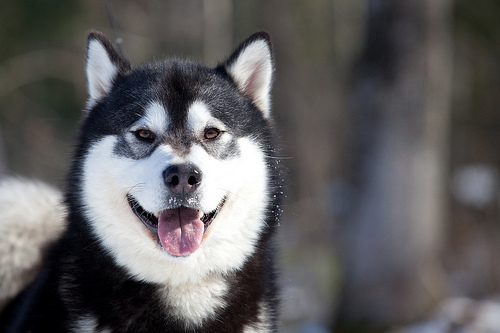dog: (0, 28, 281, 332)
